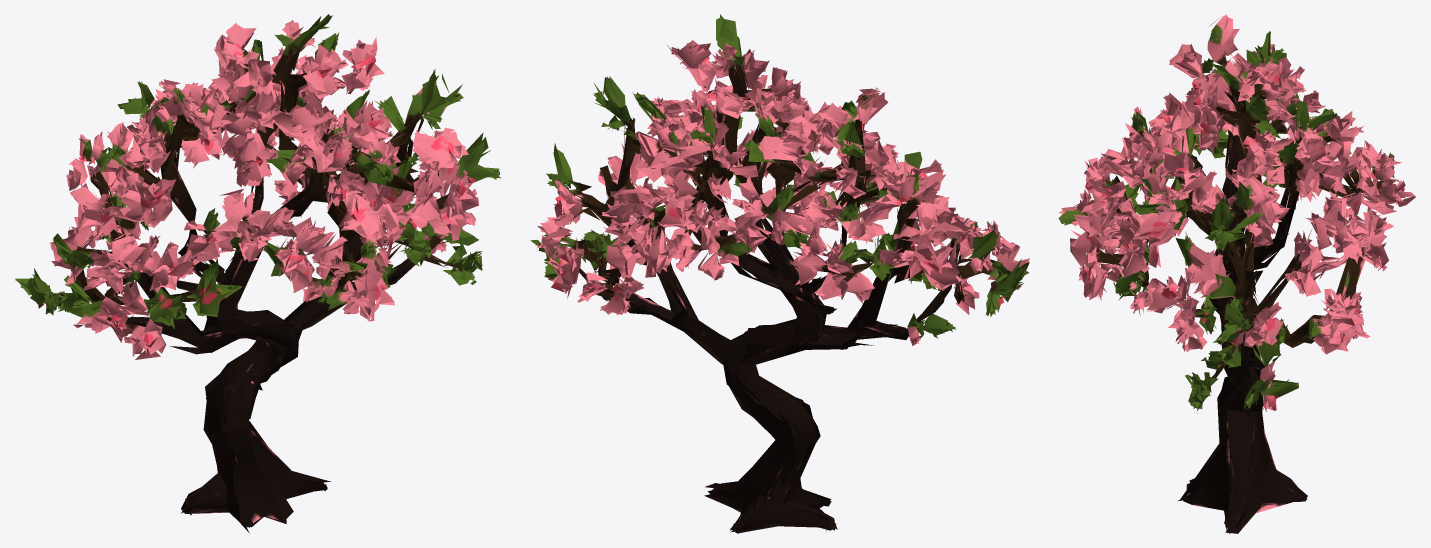
Rendered from peach-tree-lod.glb.
3 renders of one model, left to right at view 1: azimuth 30°, elevation 25°; view 2: azimuth 150°, elevation 25°; view 3: azimuth 270°, elevation 25°, orthographic. The views are drawn at different scales.
Visible parts, largest first — view 1: world; view 2: world; view 3: world.
Part boxes in pixels (<box>): world: <box>15,14,501,533</box>; world: <box>530,14,1029,533</box>; world: <box>1058,14,1415,533</box>.
Bounding box in the file's own units: 0.4155 × 0.4012 × 0.2747.
Materials: 1 (1 with a texture image).
